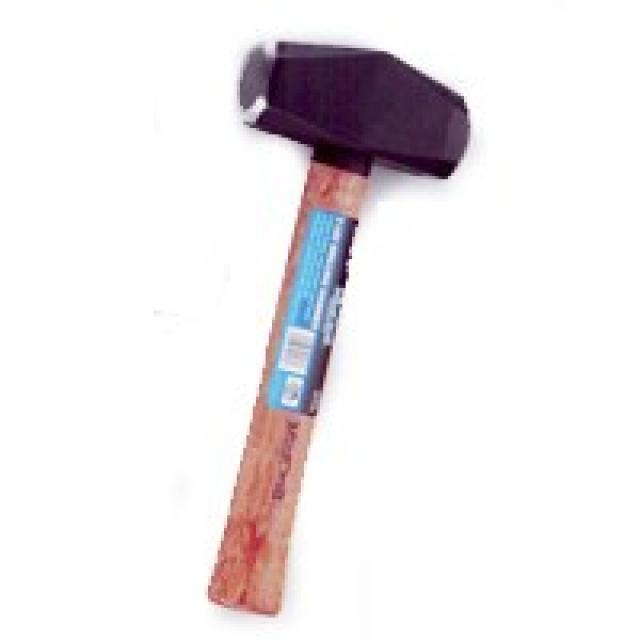hammer: (200, 29, 474, 630)
